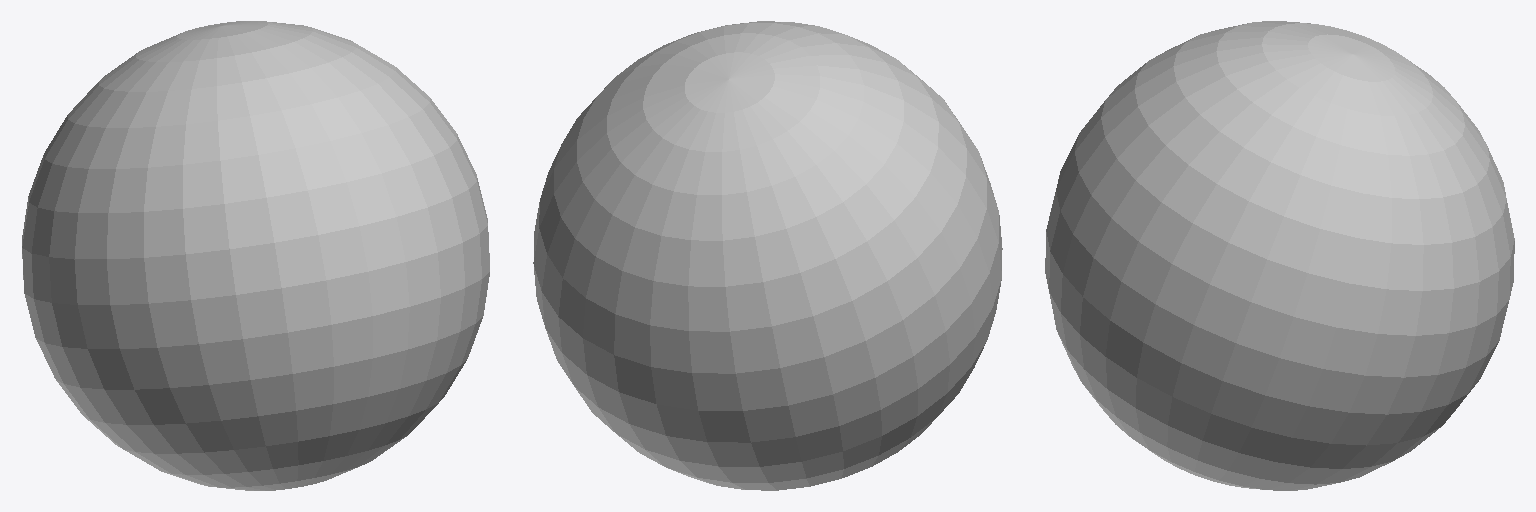
Rendered from Left Shoulder.obj.
The picture shows the model from 3 angles: view 1: azimuth 30°, elevation 25°; view 2: azimuth 150°, elevation 25°; view 3: azimuth 270°, elevation 25°; orthographic projection.
Visible parts, largest first — view 1: Left_Shoulder_Sphere.031; view 2: Left_Shoulder_Sphere.031; view 3: Left_Shoulder_Sphere.031.
Part boxes in pixels (left/top/right/bottom): Left_Shoulder_Sphere.031: left=22, top=21, right=489, bottom=490; Left_Shoulder_Sphere.031: left=533, top=21, right=1002, bottom=490; Left_Shoulder_Sphere.031: left=1045, top=21, right=1514, bottom=490.
Bounding box in the file's own units: 0.6546 × 0.6526 × 0.6527.